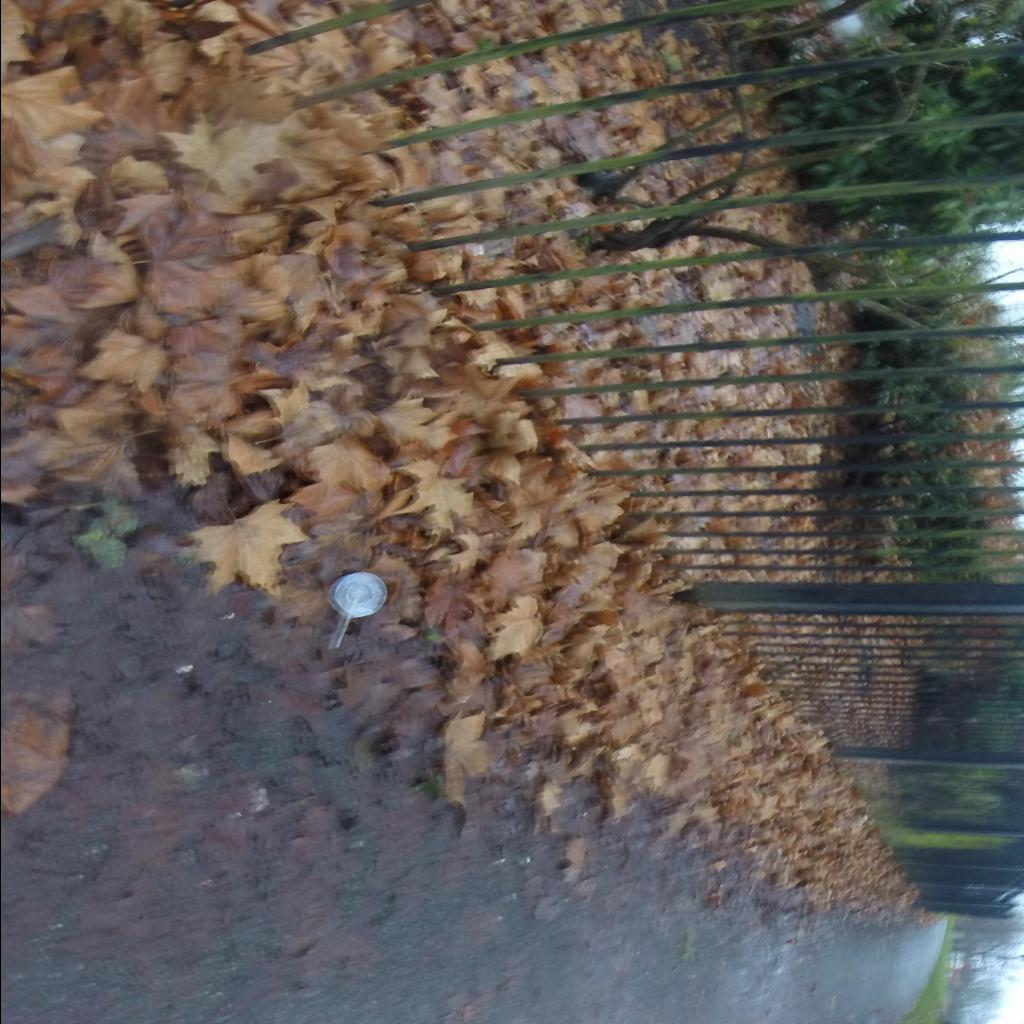Plastic lid: (325, 572, 386, 618)
Plastic straw: (332, 598, 356, 648)
